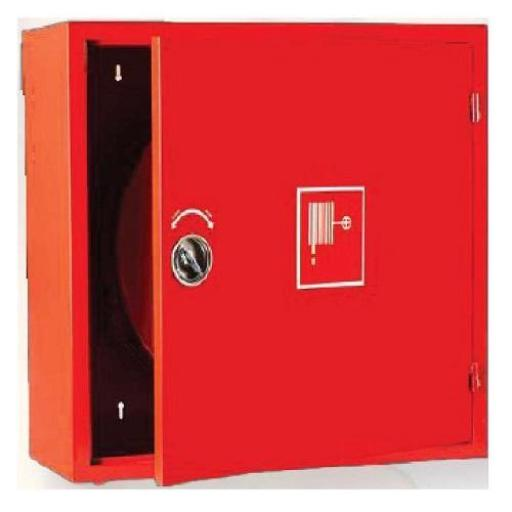fire_hose: (15, 15, 497, 490)
